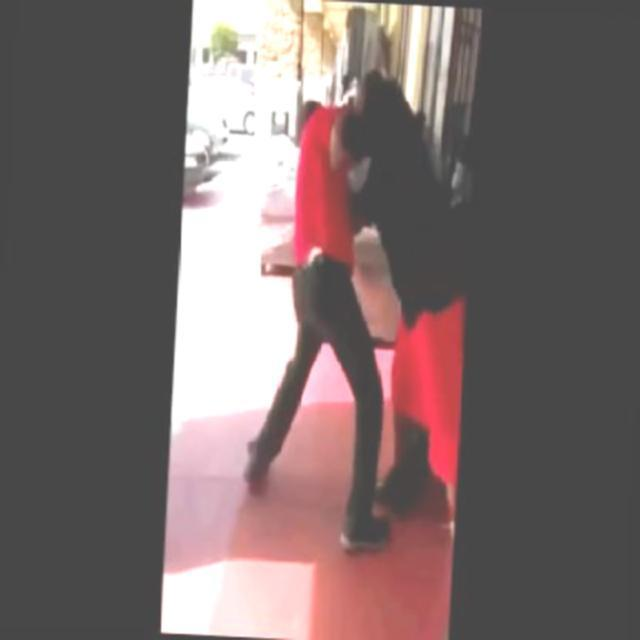fight: (276, 66, 476, 479)
